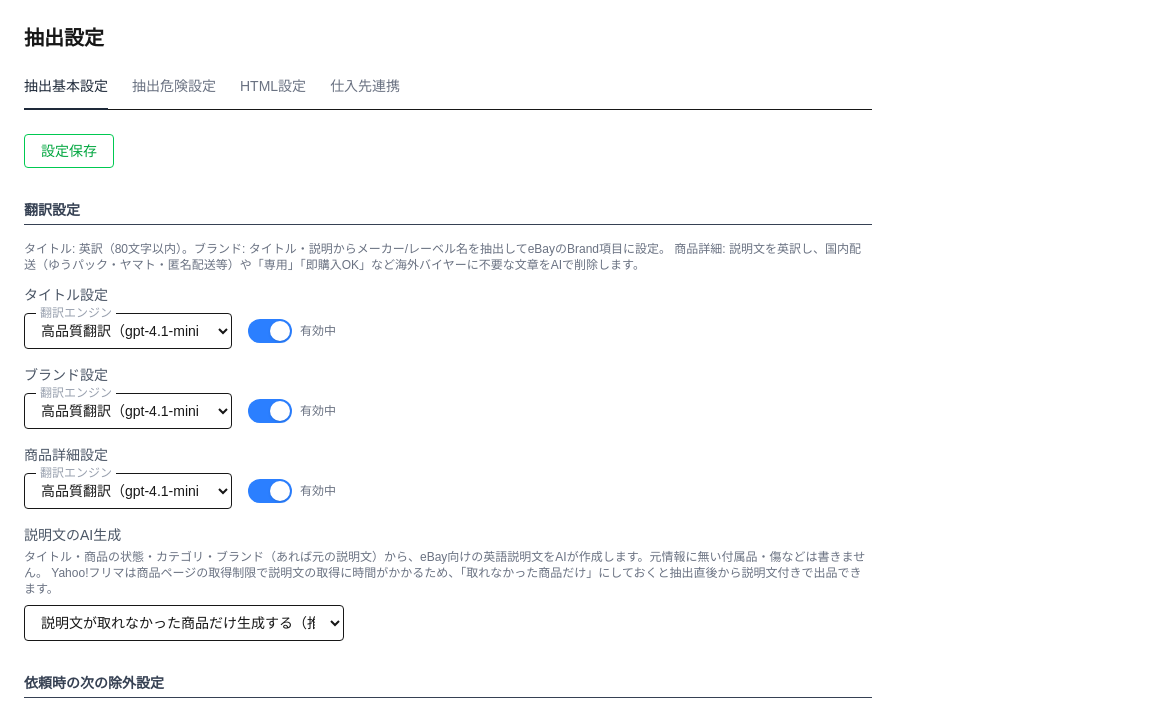
Test case: 抽出設定ページ: Veroブランドの登録UI › 削除ボタンでtype: veroのDELETEリクエストを送り、一覧から消える
The image size is (1152, 701).
Click the button "抽出危険設定".
click(174, 93)  # box [132, 76, 216, 110]
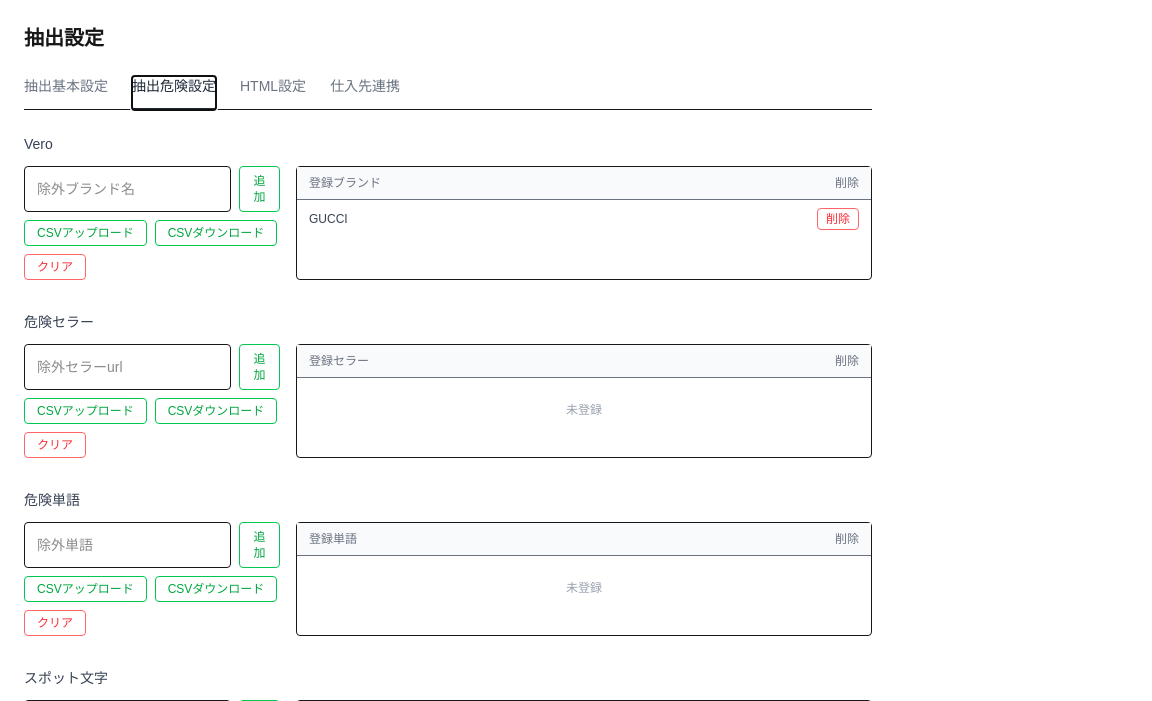
Now the text "GUCCI" is shown, box [309, 212, 348, 226]
Click the button "削除".
click(838, 219)  # box [817, 208, 859, 230]
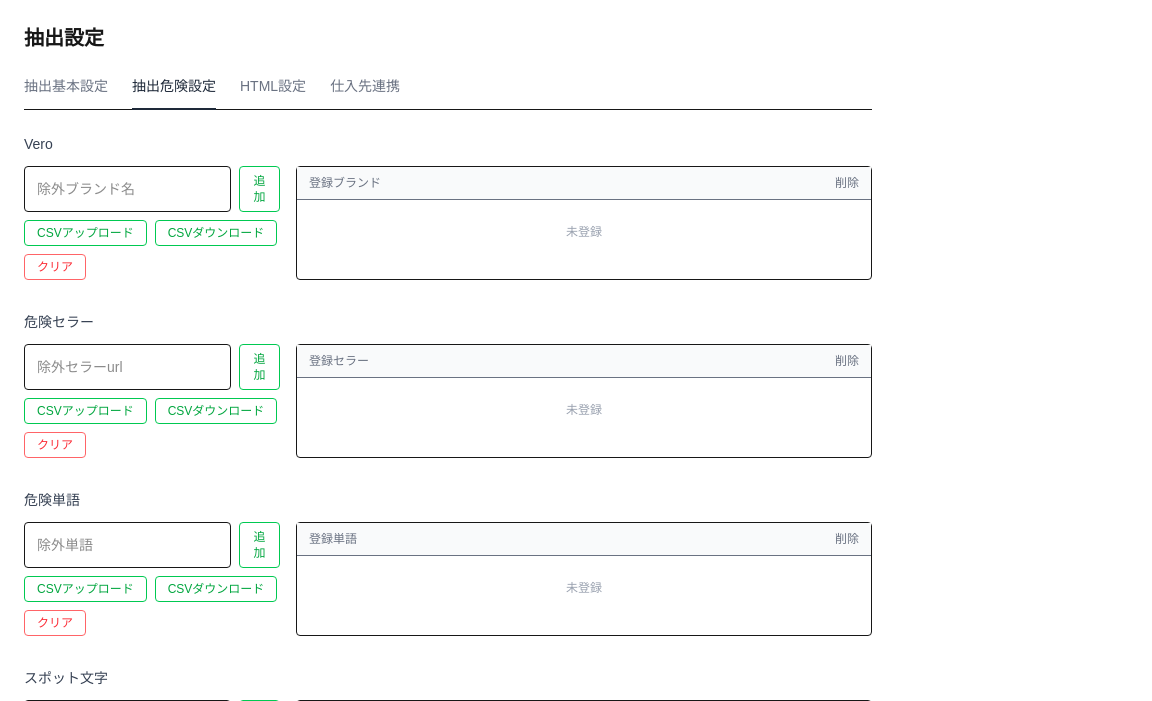
Now the text "GUCCI" is gone
